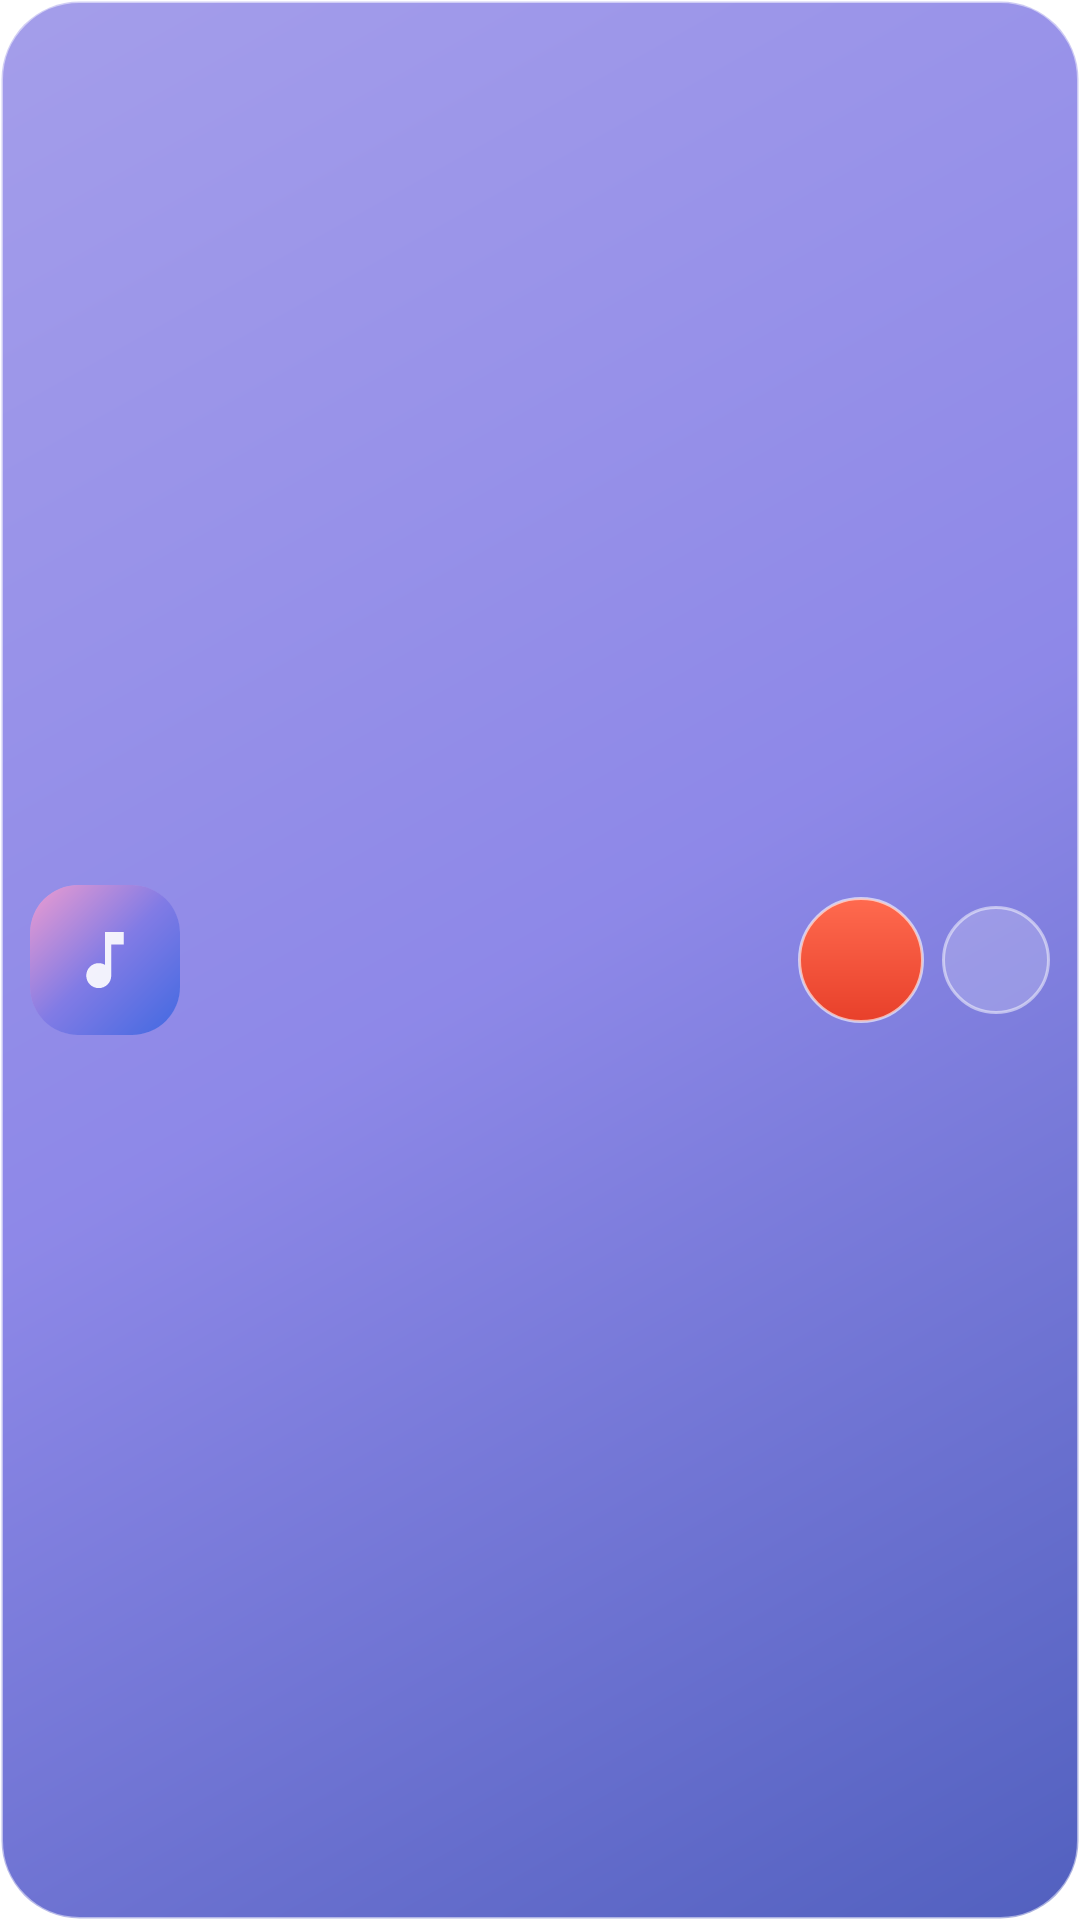

Locate icon controls on the screen. Image size 1080x1920, boxes as (x1, y1, x2, y2).
Artwork: (30, 885, 180, 1035)
